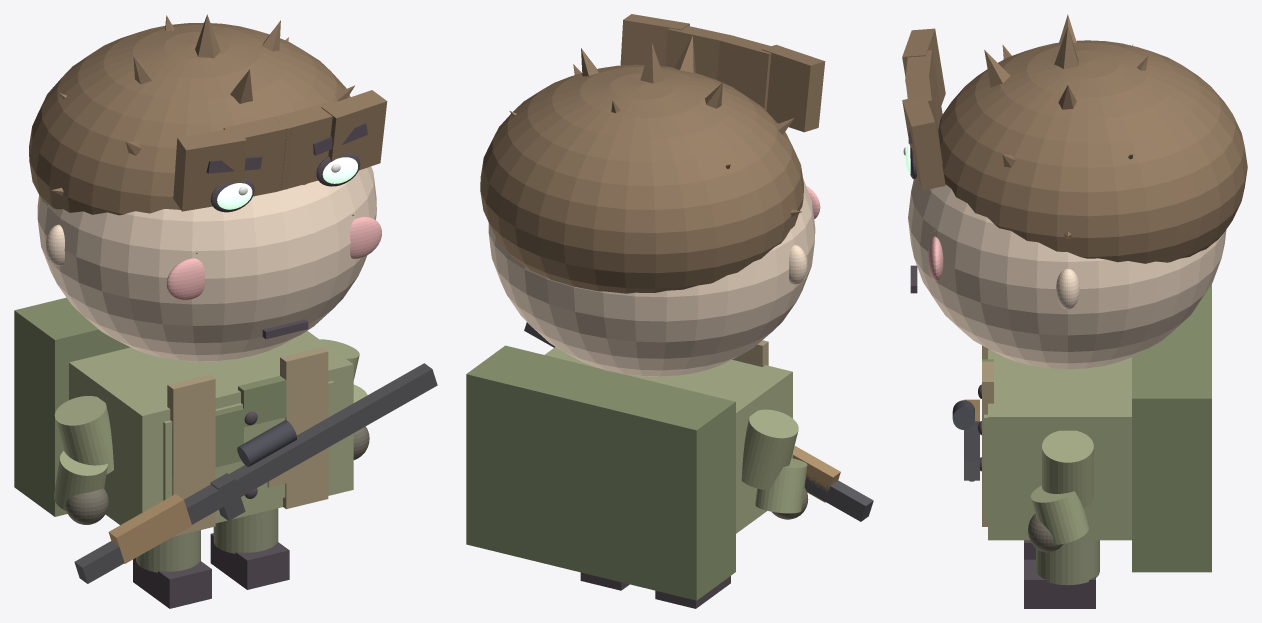
The model's file is hunter.glb.
The picture shows the model from 3 angles, left to right: view 1: azimuth 30°, elevation 25°; view 2: azimuth 150°, elevation 25°; view 3: azimuth 270°, elevation 25°; orthographic projection. The views are drawn at different scales.
Parts seen in each view (by area): view 1: Head, HairCap, Coat, Backpack, RifleBody, Strap_L, Strap_R, Fringe_0, UpperArm_L, Fringe_3, Fringe_1, Fringe_2 (+18 smaller); view 2: HairCap, Backpack, Head, Coat, Fringe_0, UpperArm_L, Fringe_1, Fringe_3, Fringe_2, Forearm_L, RifleBody, RifleStock (+4 smaller); view 3: HairCap, Head, Backpack, Coat, UpperArm_R, Fringe_3, Leg_R, Forearm_R, Shoe_R, Fringe_0, Fringe_1, RifleBody (+8 smaller).
Part boxes in pixels (bbox=[...]): Head: bbox=[37, 166, 376, 361]; HairCap: bbox=[29, 22, 350, 215]; Coat: bbox=[69, 330, 353, 525]; Backpack: bbox=[14, 297, 130, 516]; RifleBody: bbox=[74, 363, 437, 583]; Strap_L: bbox=[167, 374, 215, 536]; Strap_R: bbox=[280, 347, 328, 509]; Fringe_0: bbox=[173, 127, 246, 211]; UpperArm_L: bbox=[54, 396, 113, 474]; Fringe_3: bbox=[321, 90, 387, 170]; Fringe_1: bbox=[223, 115, 292, 196]; Fringe_2: bbox=[274, 102, 332, 190]; HairCap: bbox=[480, 64, 803, 293]; Backpack: bbox=[466, 345, 735, 600]; Head: bbox=[488, 179, 815, 376]; Coat: bbox=[545, 347, 792, 533]; Fringe_0: bbox=[761, 44, 825, 132]; UpperArm_L: bbox=[741, 409, 798, 489]; Fringe_1: bbox=[717, 34, 771, 110]; Fringe_3: bbox=[620, 14, 689, 66]; Fringe_2: bbox=[665, 26, 733, 79]; Forearm_L: bbox=[755, 458, 807, 513]; RifleBody: bbox=[524, 322, 873, 521]; RifleStock: bbox=[793, 446, 840, 502]; HairCap: bbox=[938, 40, 1247, 263]; Head: bbox=[908, 176, 1226, 369]; Backpack: bbox=[1132, 284, 1211, 572]; Coat: bbox=[988, 349, 1131, 540]; UpperArm_R: bbox=[1042, 430, 1093, 508]; Fringe_3: bbox=[902, 95, 945, 190]; Leg_R: bbox=[1036, 540, 1099, 585]; Forearm_R: bbox=[1030, 485, 1088, 544]; Shoe_R: bbox=[1024, 559, 1095, 608]; Fringe_0: bbox=[902, 28, 945, 105]; Fringe_1: bbox=[905, 50, 942, 129]; RifleBody: bbox=[964, 421, 979, 480].
Size of the model in its own units: 1.32 by 2 by 1.13.
